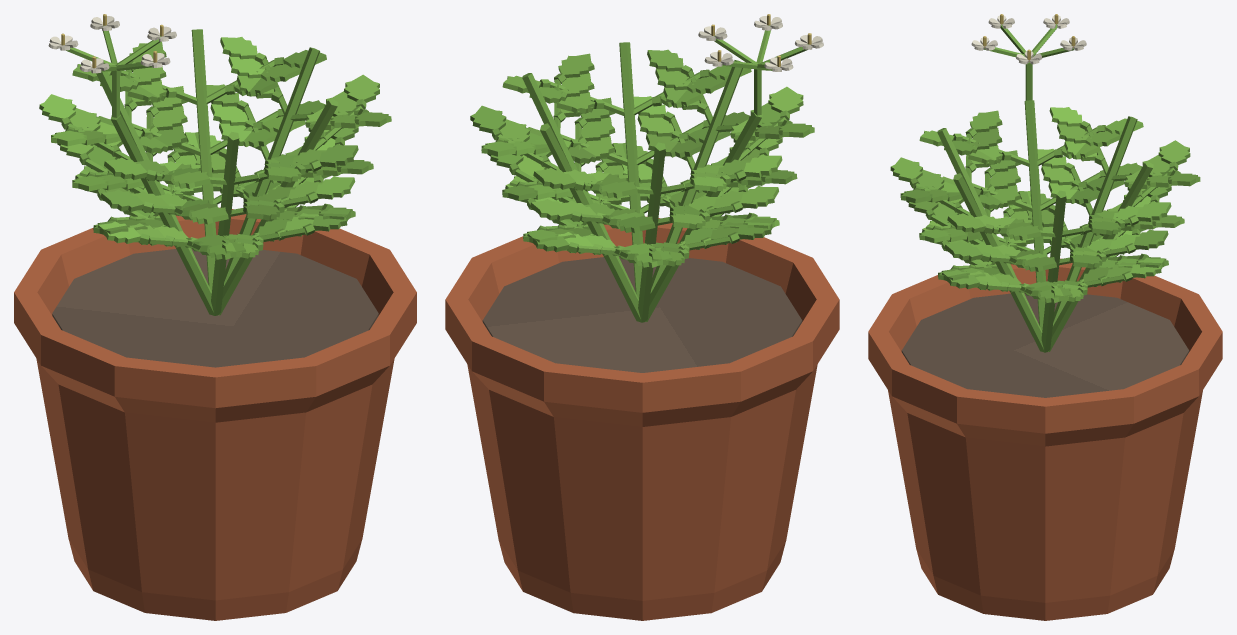
Rendered from coriander.glb.
The picture shows the model from 3 angles, left to right: view 1: azimuth 30°, elevation 25°; view 2: azimuth 150°, elevation 25°; view 3: azimuth 270°, elevation 25°; orthographic projection. The views are drawn at different scales.
Visible parts, largest first — view 1: coriander/review-terra-vessel, coriander/review-rooted-soil, coriander/petiole-214, coriander/petiole-171, coriander/petiole-001, coriander/petiole-085, coriander/petiole-128, coriander/petiole-257, coriander/leaf-036, coriander/leaf-170, coriander/leaf-113, coriander/leaf-127 (+7 smaller); view 2: coriander/review-terra-vessel, coriander/review-rooted-soil, coriander/petiole-128, coriander/petiole-085, coriander/petiole-214, coriander/petiole-257, coriander/petiole-001, coriander/petiole-171, coriander/leaf-043, coriander/leaf-249, coriander/leaf-299, coriander/leaf-285 (+8 smaller); view 3: coriander/review-terra-vessel, coriander/review-rooted-soil, coriander/petiole-001, coriander/petiole-257, coriander/petiole-128, coriander/petiole-171, coriander/petiole-214, coriander/petiole-085, coriander/leaf-256, coriander/leaf-163, coriander/leaf-199, coriander/leaf-213 (+5 smaller).
Part boxes in pixels (bbox=[...]): coriander/review-terra-vessel: bbox=[14, 207, 416, 620]; coriander/review-rooted-soil: bbox=[52, 248, 378, 367]; coriander/petiole-214: bbox=[191, 29, 216, 291]; coriander/petiole-171: bbox=[218, 47, 319, 315]; coriander/petiole-001: bbox=[110, 114, 213, 315]; coriander/petiole-085: bbox=[211, 131, 239, 315]; coriander/petiole-128: bbox=[213, 99, 338, 315]; coriander/petiole-257: bbox=[96, 71, 211, 293]; coriander/leaf-036: bbox=[39, 94, 76, 122]; coriander/leaf-170: bbox=[344, 74, 379, 102]; coriander/leaf-113: bbox=[316, 176, 355, 199]; coriander/leaf-127: bbox=[319, 144, 358, 167]; coriander/review-terra-vessel: bbox=[445, 216, 839, 620]; coriander/review-rooted-soil: bbox=[482, 257, 802, 372]; coriander/petiole-128: bbox=[619, 42, 643, 298]; coriander/petiole-085: bbox=[645, 60, 742, 321]; coriander/petiole-214: bbox=[540, 123, 640, 321]; coriander/petiole-257: bbox=[638, 142, 665, 322]; coriander/petiole-001: bbox=[640, 111, 762, 322]; coriander/petiole-171: bbox=[522, 73, 638, 300]; coriander/leaf-043: bbox=[768, 86, 803, 113]; coriander/leaf-249: bbox=[470, 105, 506, 133]; coriander/leaf-299: bbox=[744, 154, 782, 177]; coriander/leaf-285: bbox=[740, 186, 778, 208]; coriander/review-terra-vessel: bbox=[868, 257, 1222, 620]; coriander/review-rooted-soil: bbox=[901, 293, 1189, 397]; coriander/petiole-001: bbox=[1024, 100, 1045, 330]; coriander/petiole-257: bbox=[1048, 116, 1137, 351]; coriander/petiole-128: bbox=[953, 173, 1043, 351]; coriander/petiole-171: bbox=[1041, 190, 1066, 352]; coriander/petiole-214: bbox=[1043, 161, 1153, 352]; coriander/petiole-085: bbox=[937, 128, 1042, 332]; coriander/leaf-256: bbox=[1158, 140, 1190, 164]; coriander/leaf-163: bbox=[890, 157, 922, 182]; coriander/leaf-199: bbox=[1134, 229, 1168, 249]; coriander/leaf-213: bbox=[1137, 201, 1171, 221].
Size of the model in its own units: 0.19 by 0.2906 by 0.19.
Materials: 5 (5 with a texture image).
